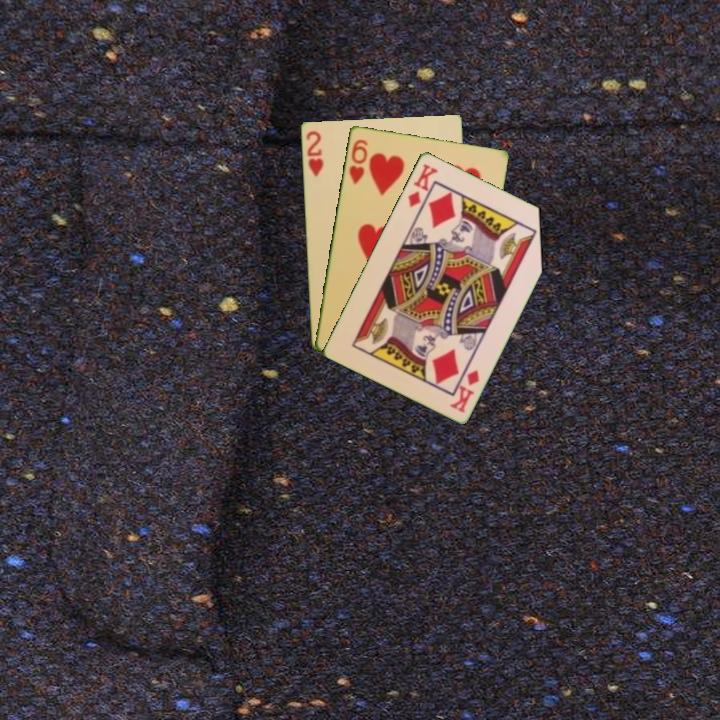2h: (302, 127, 326, 179)
6h: (345, 135, 370, 187)
Kd: (404, 160, 441, 210), (446, 365, 482, 415)
